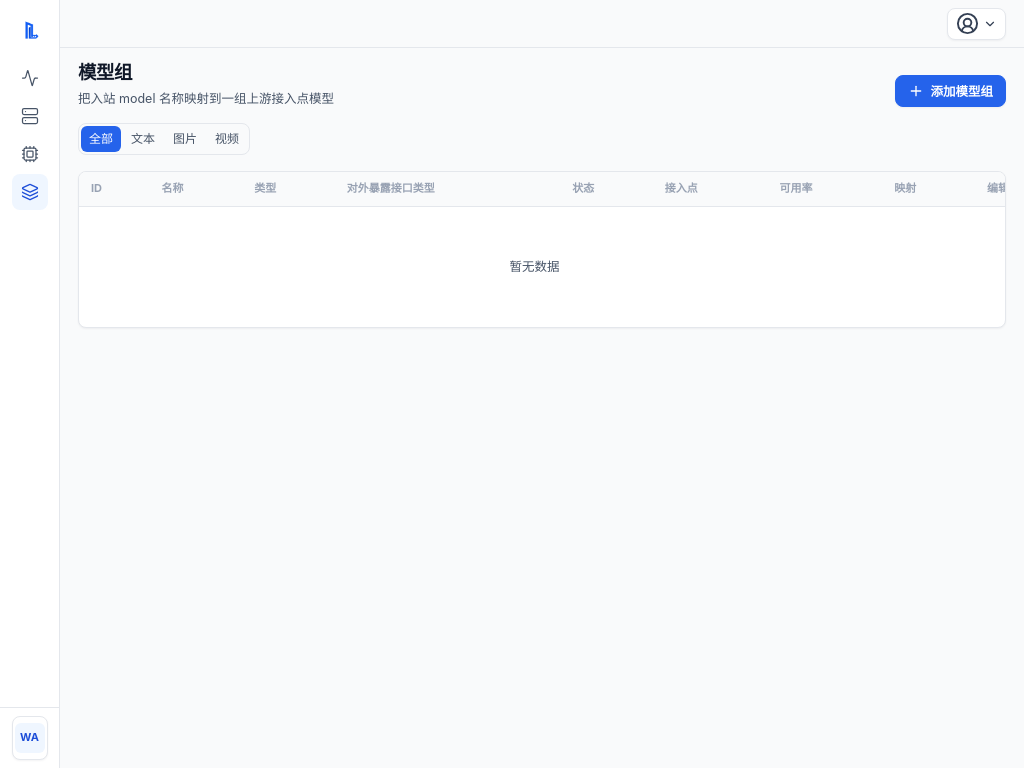
Test: App endpoint permissions and flows › defaults new model groups to central forwarding and warns on the Sidecar option
Click the button "添加模型组" at (951, 91), box [896,75,1006,107]
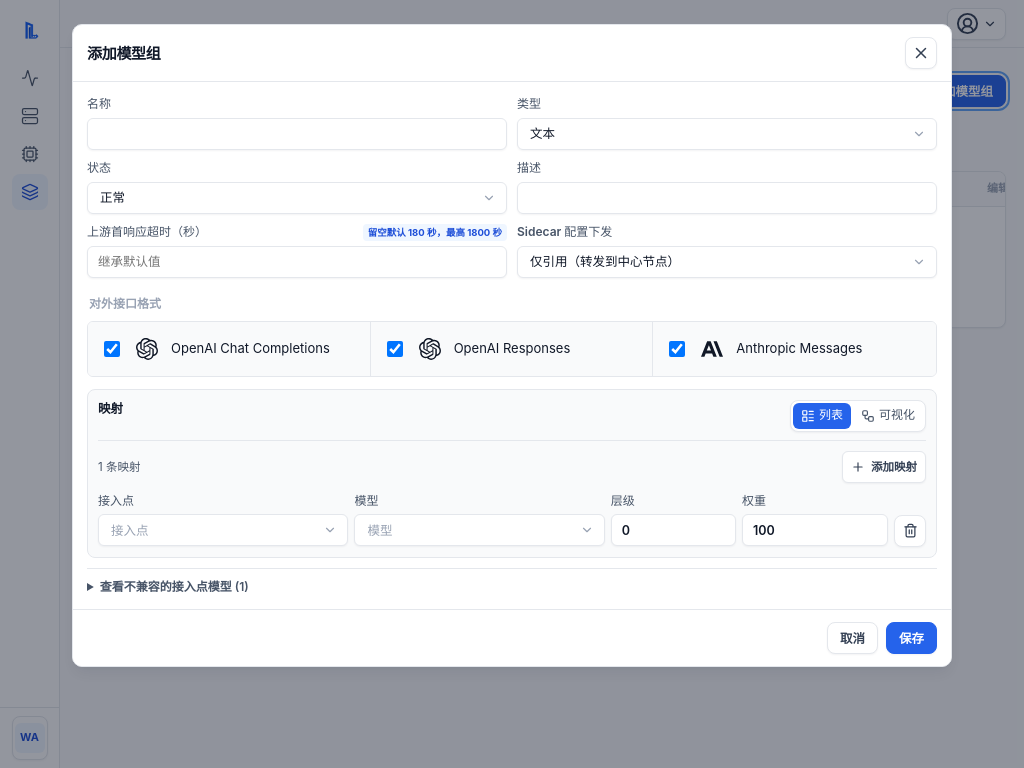
Now the button named "Sidecar 配置下发" reads "仅引用（转发到中心节点）"
Click the button named "Sidecar 配置下发" at (605, 261), box [517,246,937,278]
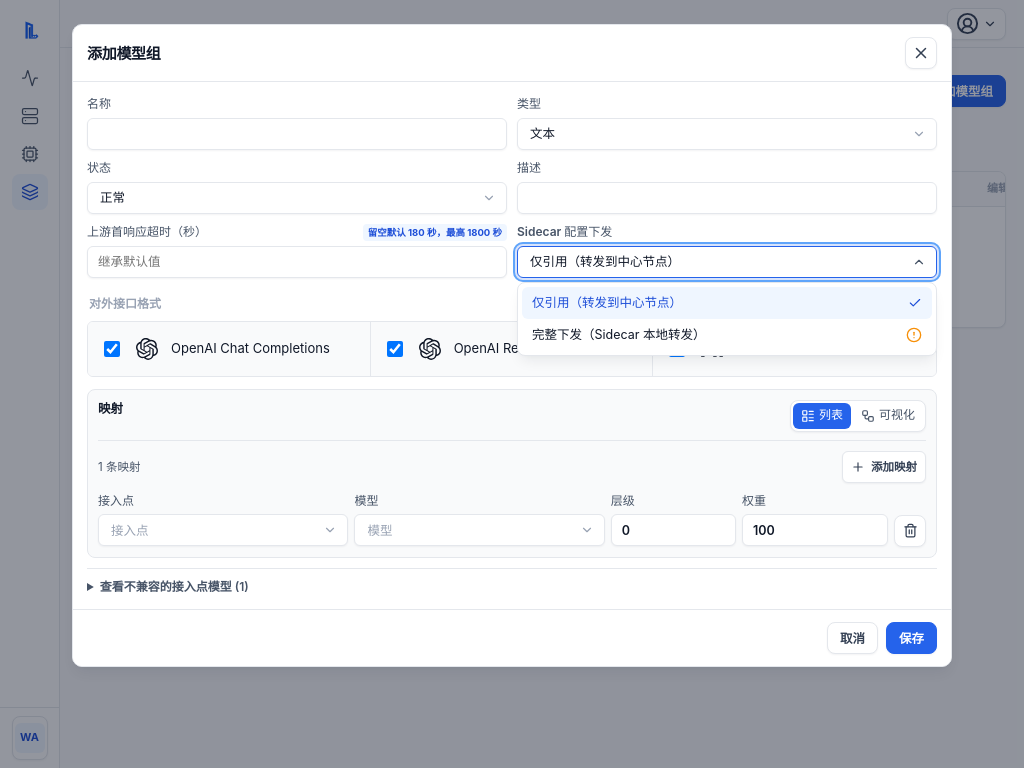
Now the options read "仅引用（转发到中心节点）", "完整下发（Sidecar 本地转发）", in this order, box [522,287,932,319]; [522,319,932,351]
Now the option "完整下发（Sidecar 本地转发）" is shown, box [522,319,932,351]
Hover over the picture named "该方式会将模型供应商的配置信息全量下发至 Sidecar 上，请确保 Sidecar 处于可信环境中" at (914, 335), box [906,327,922,343]
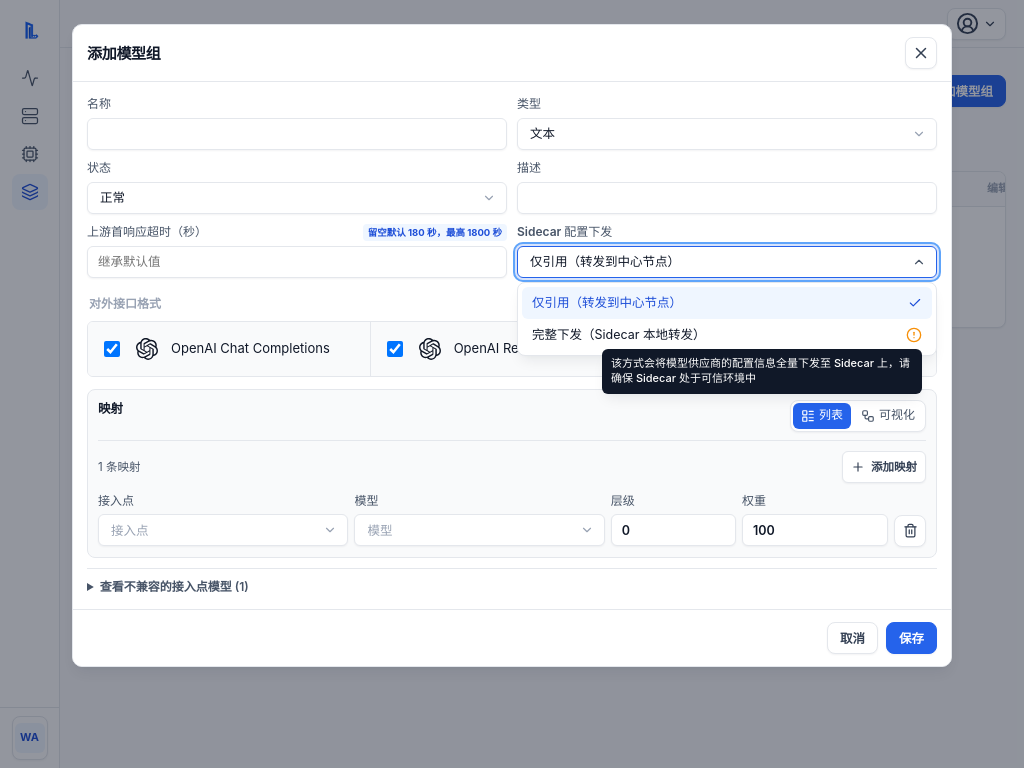
Now the tooltip reads "该方式会将模型供应商的配置信息全量下发至 Sidecar 上，请确保 Sidecar 处于可信环境中", box [611,356,910,385]
Move the pointer off the picture named "该方式会将模型供应商的配置信息全量下发至 Sidecar 上，请确保 Sidecar 处于可信环境中", box [906,327,922,343]
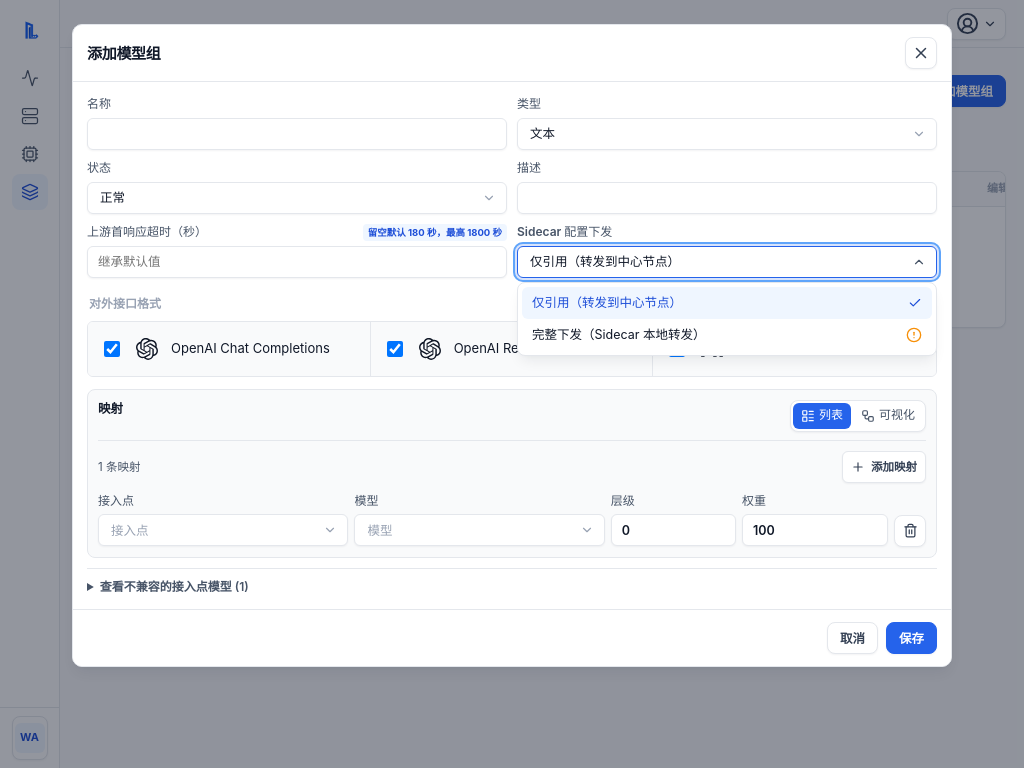
Now the tooltip "该方式会将模型供应商的配置信息全量下发至 Sidecar 上，请确保 Sidecar 处于可信环境中" is gone
